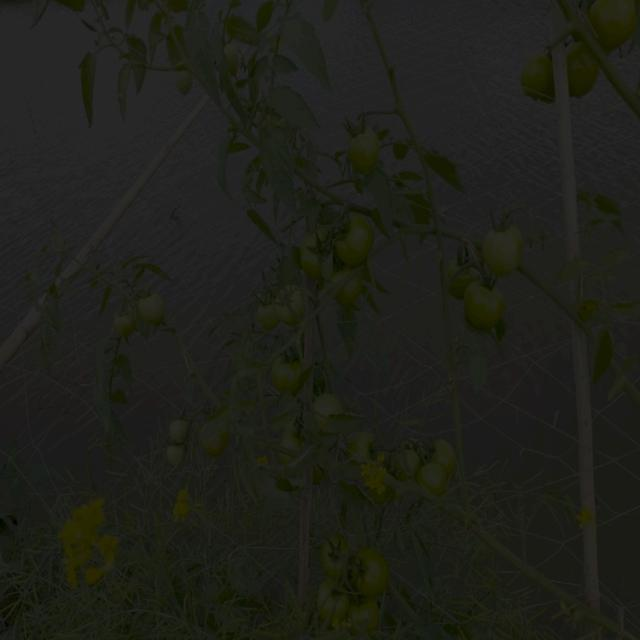tomato: (514, 54, 561, 107), (468, 279, 509, 333), (485, 221, 523, 272), (315, 532, 350, 583), (561, 50, 597, 98), (335, 218, 373, 262), (355, 548, 389, 597), (596, 8, 637, 48), (315, 578, 351, 623), (355, 594, 390, 640), (344, 132, 383, 173), (142, 289, 178, 331), (202, 414, 234, 457), (452, 246, 480, 294), (304, 232, 331, 280), (429, 435, 457, 479), (274, 351, 301, 395), (398, 449, 427, 484), (423, 460, 445, 500), (314, 395, 343, 425), (162, 416, 188, 446), (354, 432, 378, 463), (280, 287, 305, 314), (113, 313, 140, 337), (225, 44, 244, 77), (284, 423, 307, 450), (169, 441, 190, 468), (337, 279, 358, 302), (260, 305, 284, 325), (175, 70, 191, 87)
